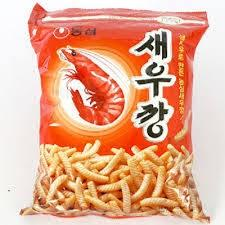snack: (19, 1, 211, 224)
